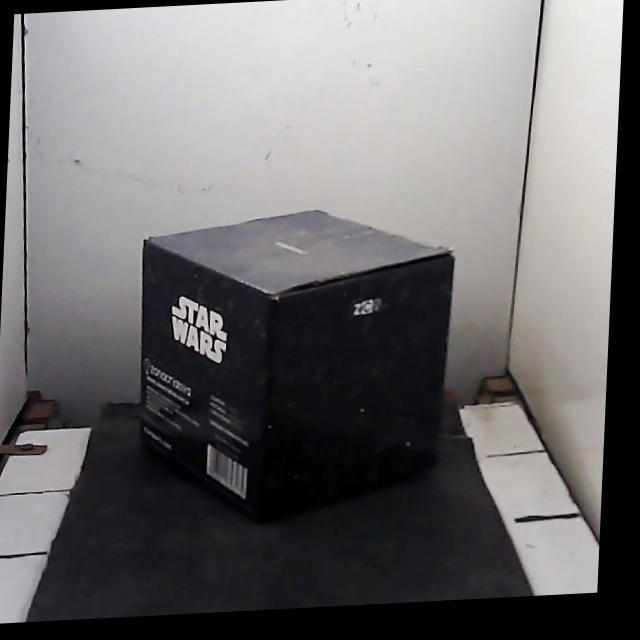papel: (140, 210, 454, 518)
